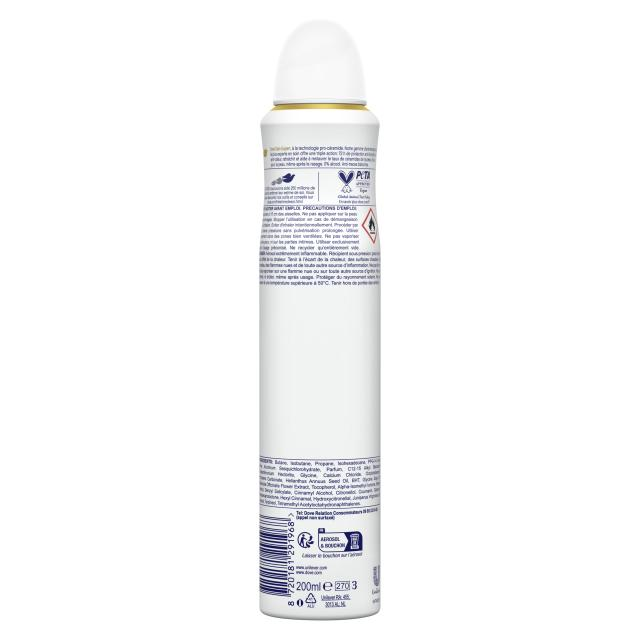GHS_Symbol_FLAME: (363, 206, 378, 244)
